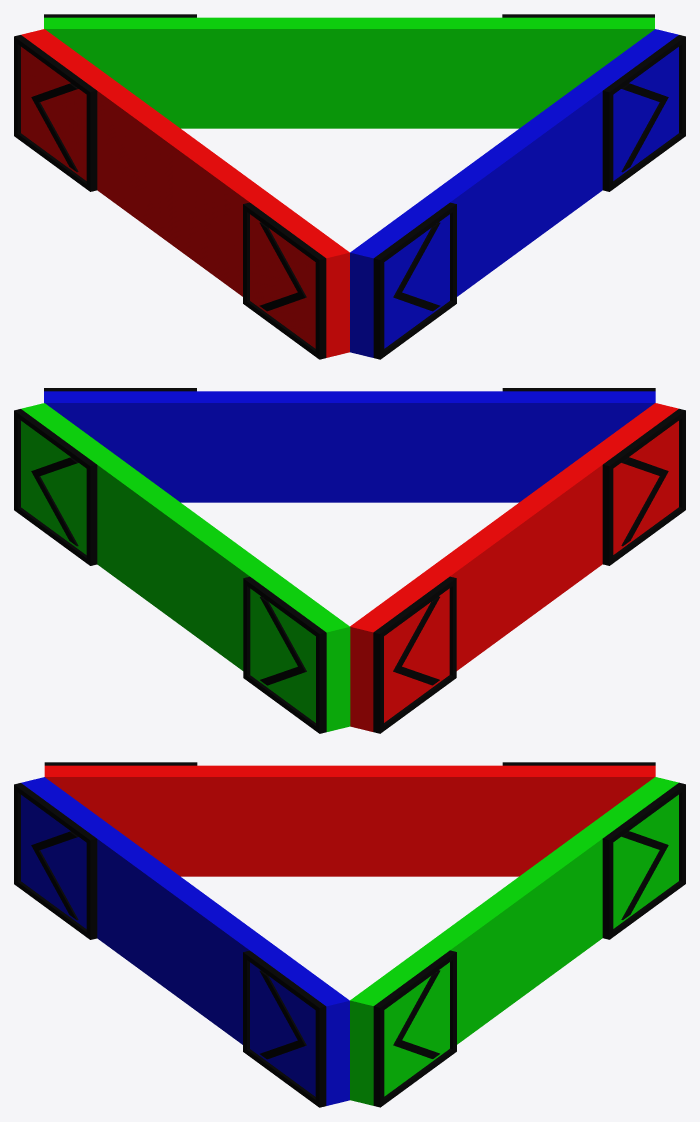
The model's file is ColorTriangle.fbx.
3 renders of one model, top to bottom at view 1: azimuth 30°, elevation 25°; view 2: azimuth 150°, elevation 25°; view 3: azimuth 270°, elevation 25°, orthographic.
Parts seen in each view (by area): view 1: Cube.002, Cube.001, Cube; view 2: Cube.001, Cube.002, Cube; view 3: Cube, Cube.002, Cube.001.
Boxes of the visible parts, box(x1,y1,x2,y2) form: Cube.002: box(44, 14, 654, 128); Cube.001: box(350, 29, 685, 359); Cube: box(14, 29, 349, 359); Cube.001: box(44, 388, 655, 502); Cube.002: box(14, 403, 350, 733); Cube: box(350, 403, 685, 733); Cube: box(44, 762, 655, 876); Cube.002: box(350, 777, 685, 1107); Cube.001: box(14, 777, 349, 1107).
Size of the model in its own units: 372 by 70.38 by 430.
